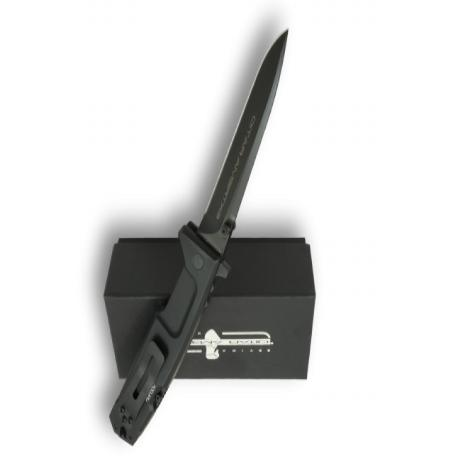weapon: (110, 27, 290, 447)
